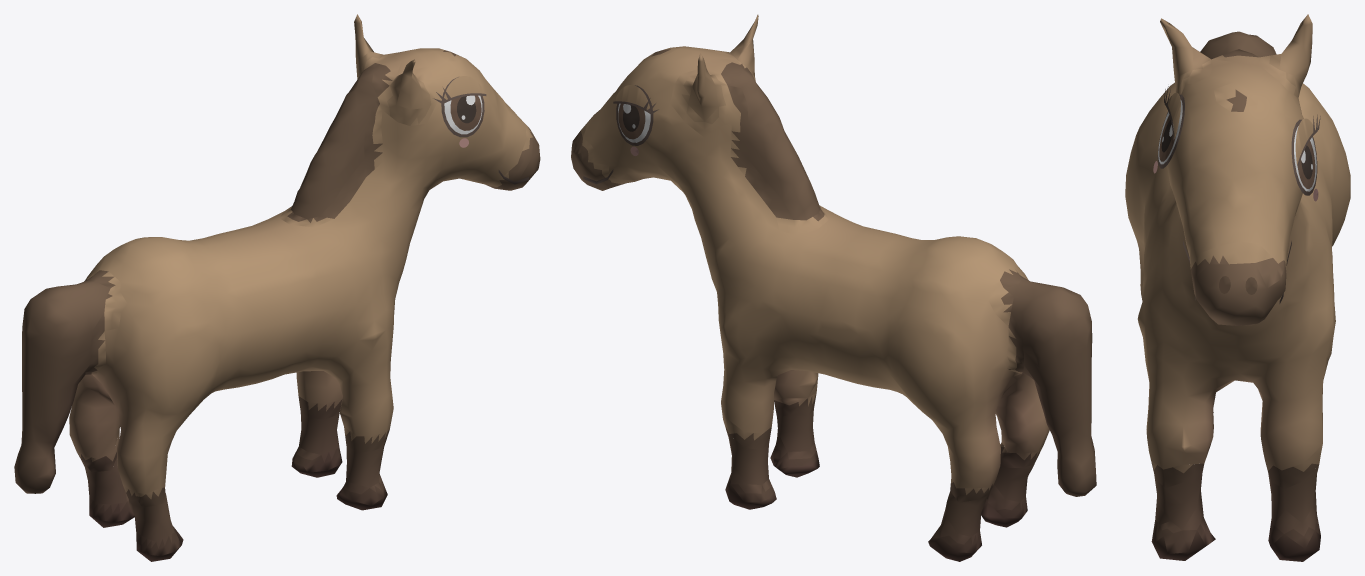
File: horse.glb
3 renders of one model, left to right at view 1: azimuth 30°, elevation 25°; view 2: azimuth 150°, elevation 25°; view 3: azimuth 270°, elevation 25°, orthographic. The views are drawn at different scales.
Parts seen in each view (by area): view 1: horse; view 2: horse; view 3: horse.
Boxes of the visible parts, box(x1,y1,x2,y2) form: horse: box(14, 14, 540, 561); horse: box(571, 14, 1096, 561); horse: box(1125, 14, 1350, 561).
Bounding box in the file's own units: 1.11 × 0.915 × 0.3281.
